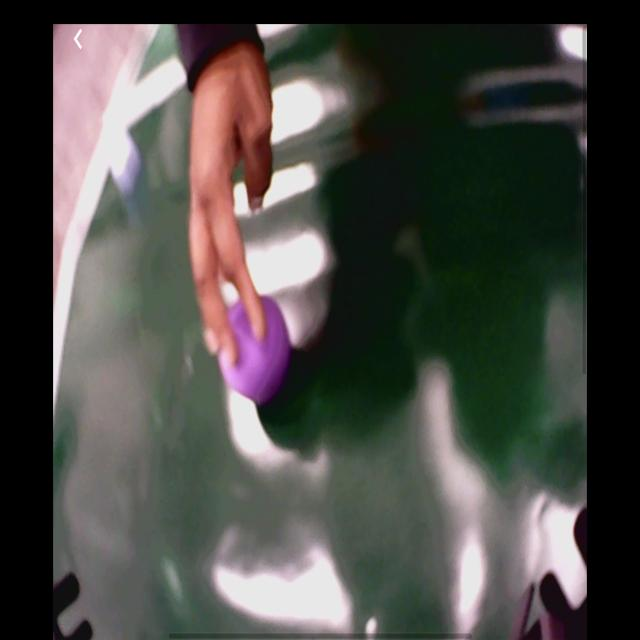ball: (224, 299, 289, 405)
